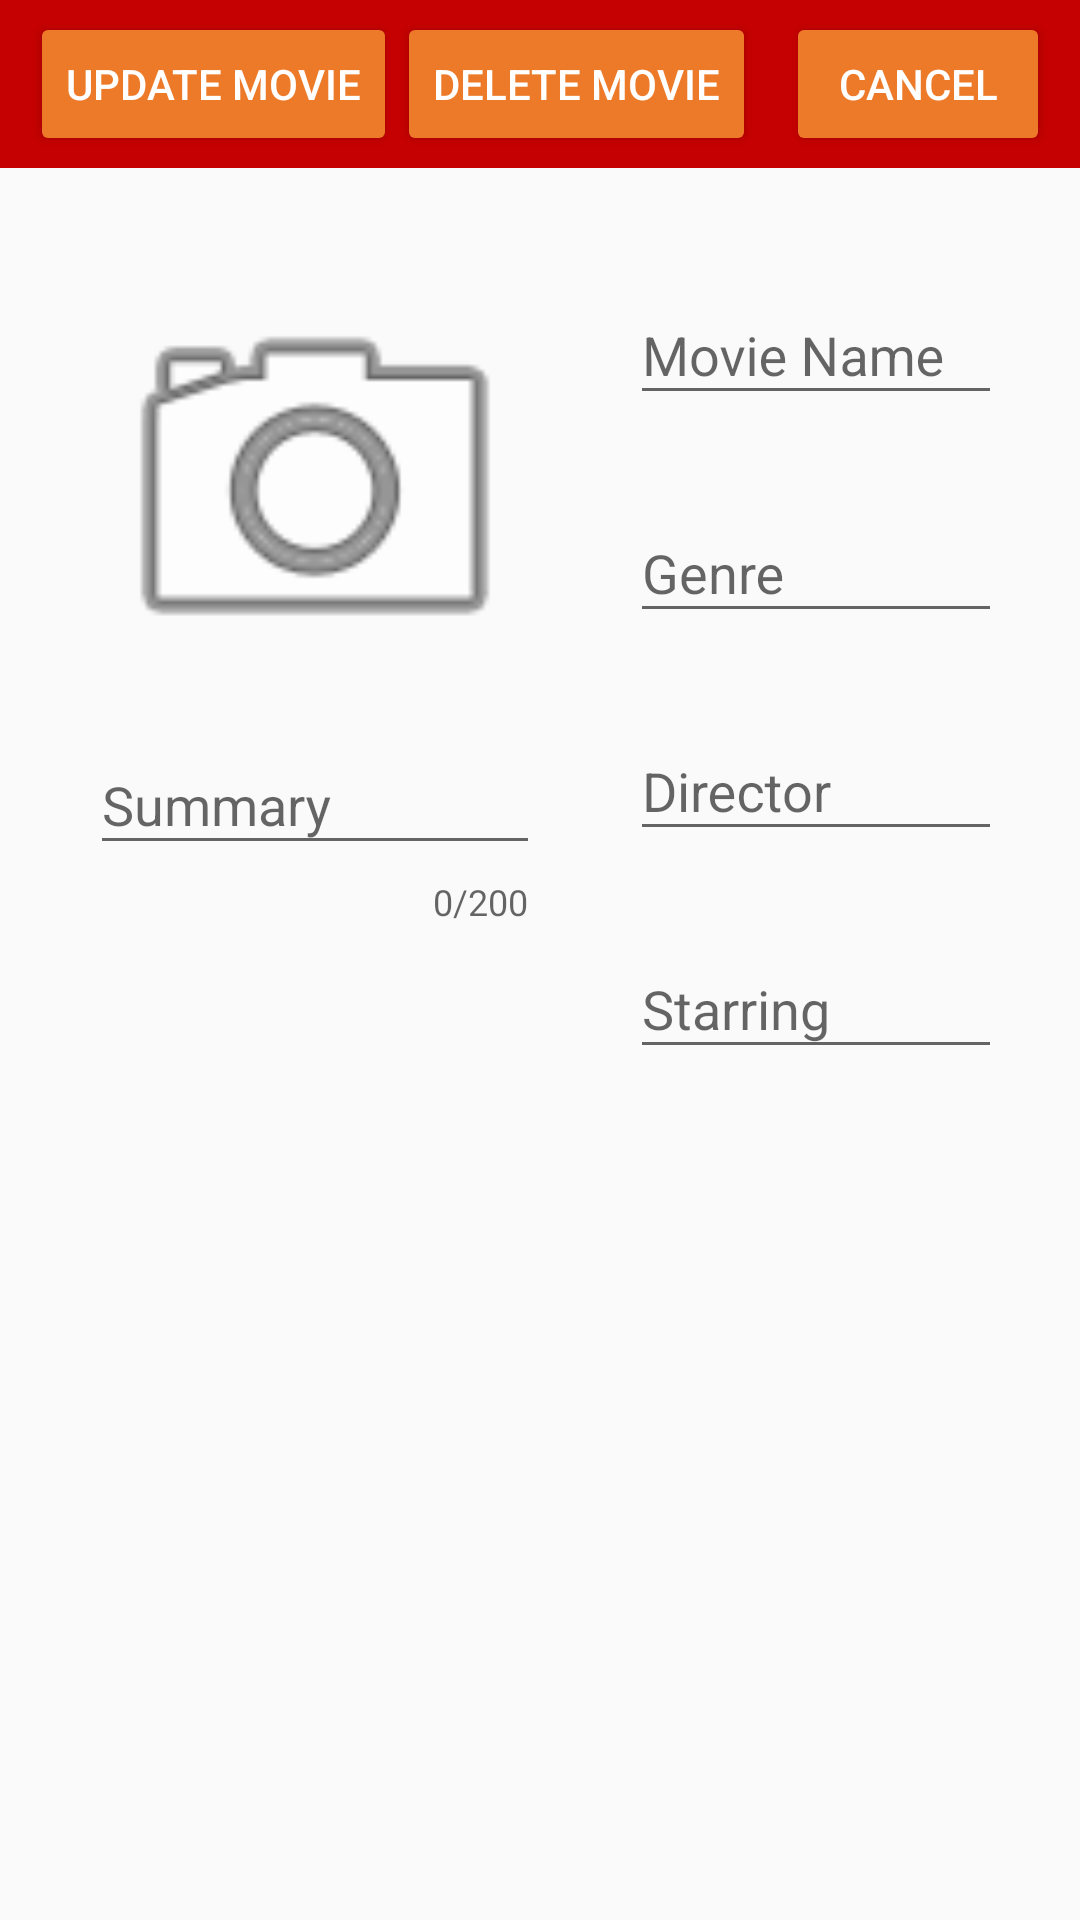

Icon click points for this 1080×1920 phone screenshot, format (x,y):
camera: (315,476)
